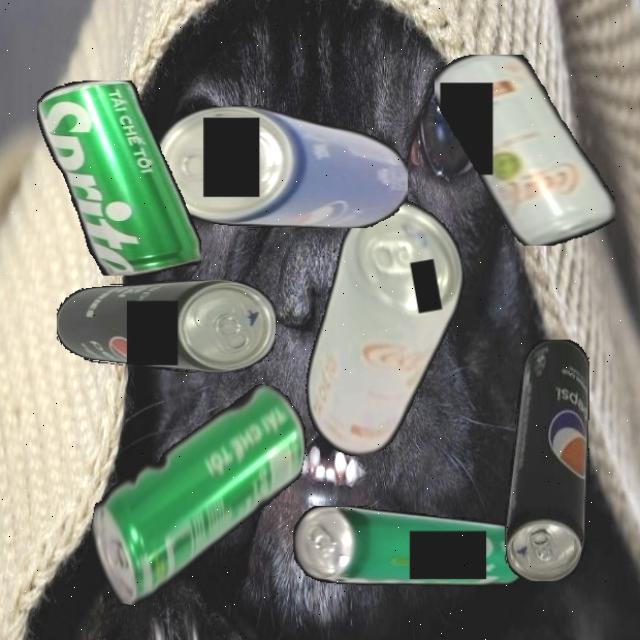debris: (79, 360, 315, 630), (276, 190, 491, 463), (435, 54, 615, 245), (37, 80, 201, 276), (155, 104, 408, 228), (504, 339, 589, 581), (56, 280, 276, 372), (293, 505, 529, 588)
